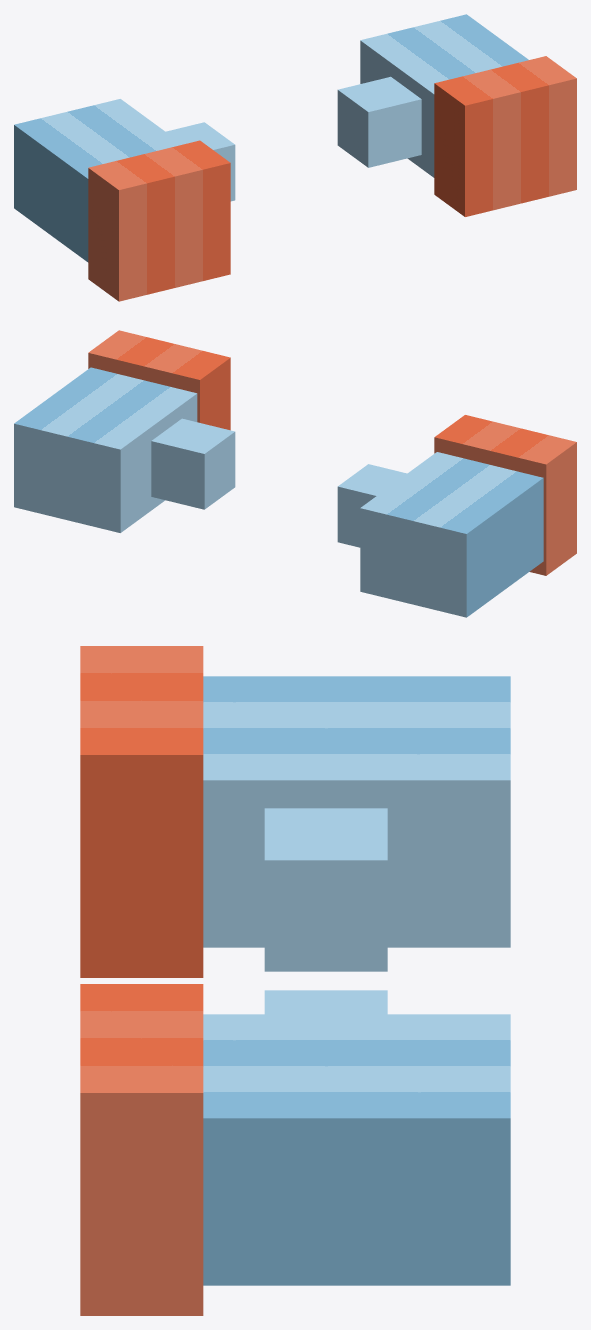
Rendered from Chef-hands.gltf.
3 views of the same model, one above another, from view 1: azimuth 30°, elevation 25°; view 2: azimuth 150°, elevation 25°; view 3: azimuth 270°, elevation 25° (orthographic). The views are drawn at different scales.
Parts seen in each view (by area): view 1: sleeve (×2), palm (×2), thumb (×2); view 2: palm (×2), sleeve (×2), thumb (×2); view 3: palm (×2), sleeve (×2), thumb (×2).
Boxes of the visible parts, box(x1,y1,x2,y2) form: sleeve (×2): box(88, 56, 576, 301); palm (×2): box(14, 14, 528, 262); thumb (×2): box(166, 76, 421, 201); palm (×2): box(14, 367, 543, 617); sleeve (×2): box(88, 330, 576, 575); thumb (×2): box(151, 418, 406, 547); palm (×2): box(203, 676, 510, 1285); sleeve (×2): box(80, 646, 203, 1315); thumb (×2): box(264, 808, 387, 1014).
Bounding box in the file's own units: 1.07 × 0.25 × 0.4375.
Materials: 1 (1 with a texture image).
